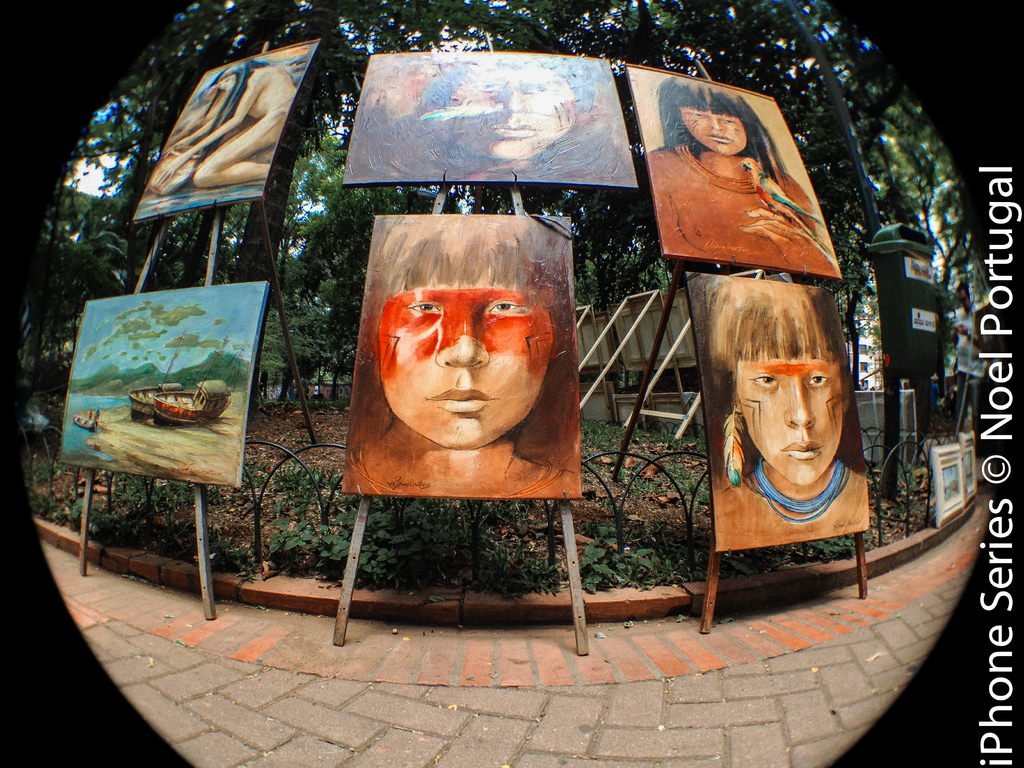Tree: (16, 0, 984, 416)
